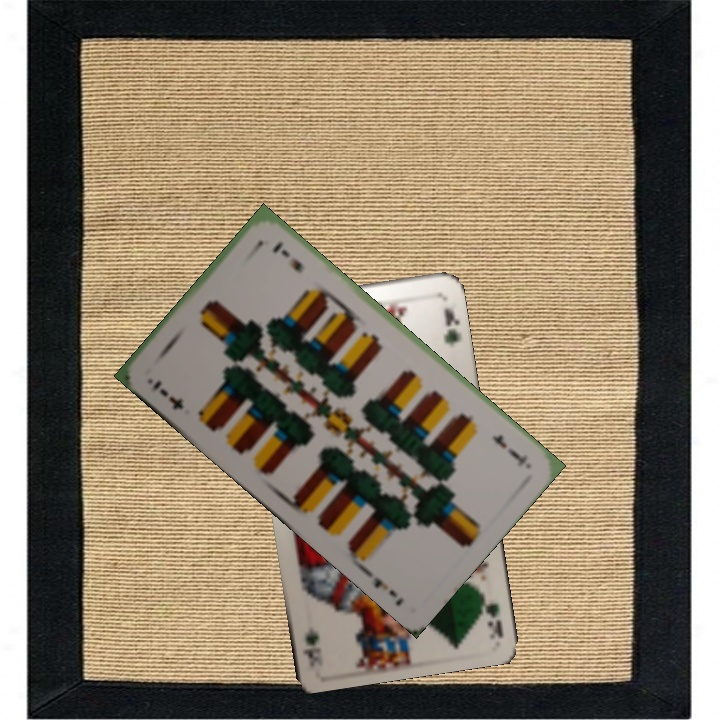E7: (487, 430, 531, 470), (148, 375, 186, 413)
GK: (473, 581, 506, 639)
